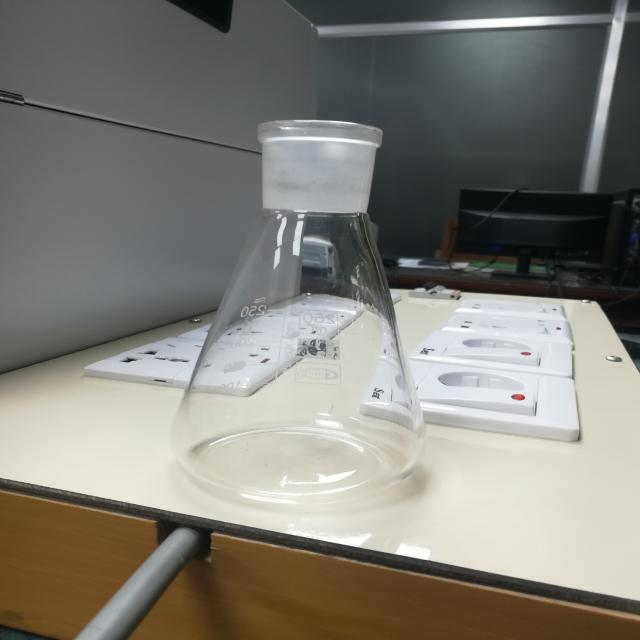Conical_Flask: (148, 73, 456, 514)
